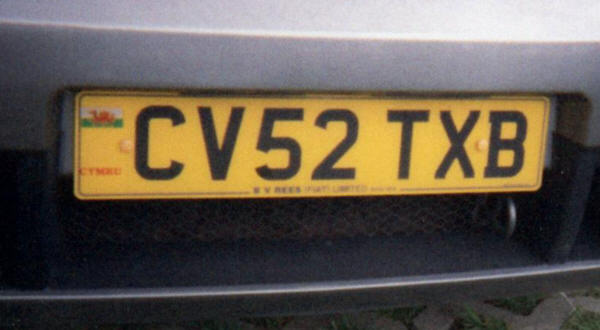license_plate: (72, 88, 551, 201)
